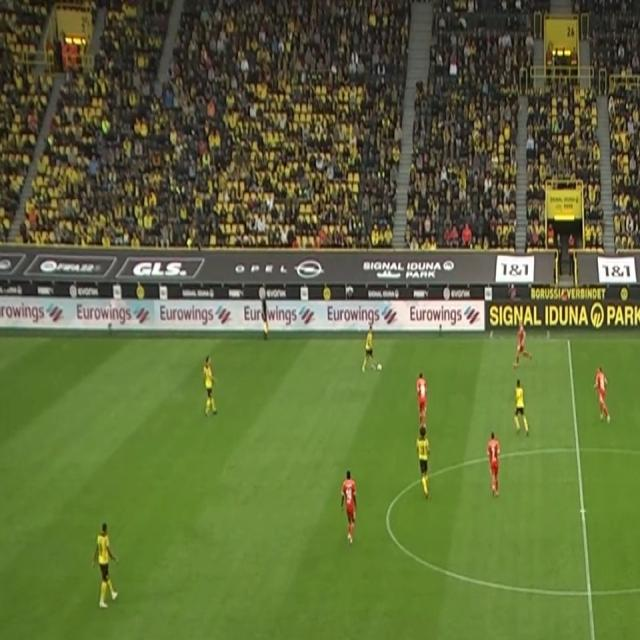ball: (377, 362, 382, 372)
